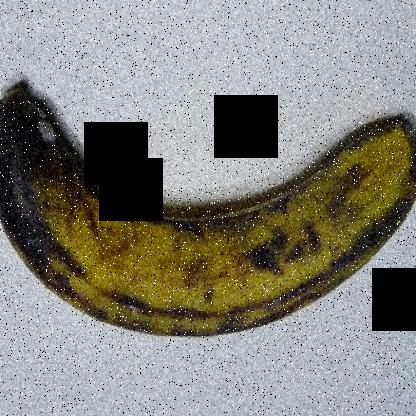overripe: (0, 36, 415, 352)
rotten: (0, 76, 113, 273)
